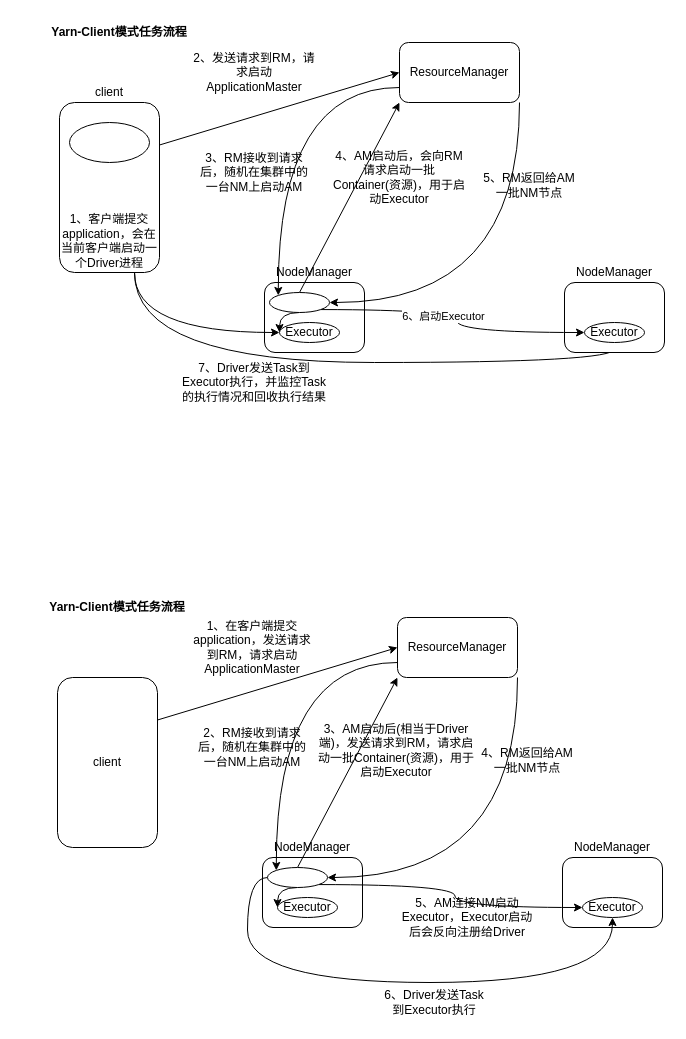
The diagram is 686 pixels wide and 1039 high, and some of its shapes have lost their labels. The shapes that lost their labels are listed below. From the top down, each one's centre as x and y in pixels, then its label:
At point 109,142: "Driver".
At point 299,302: "AM".
At point 297,877: "AM(Driver)".
